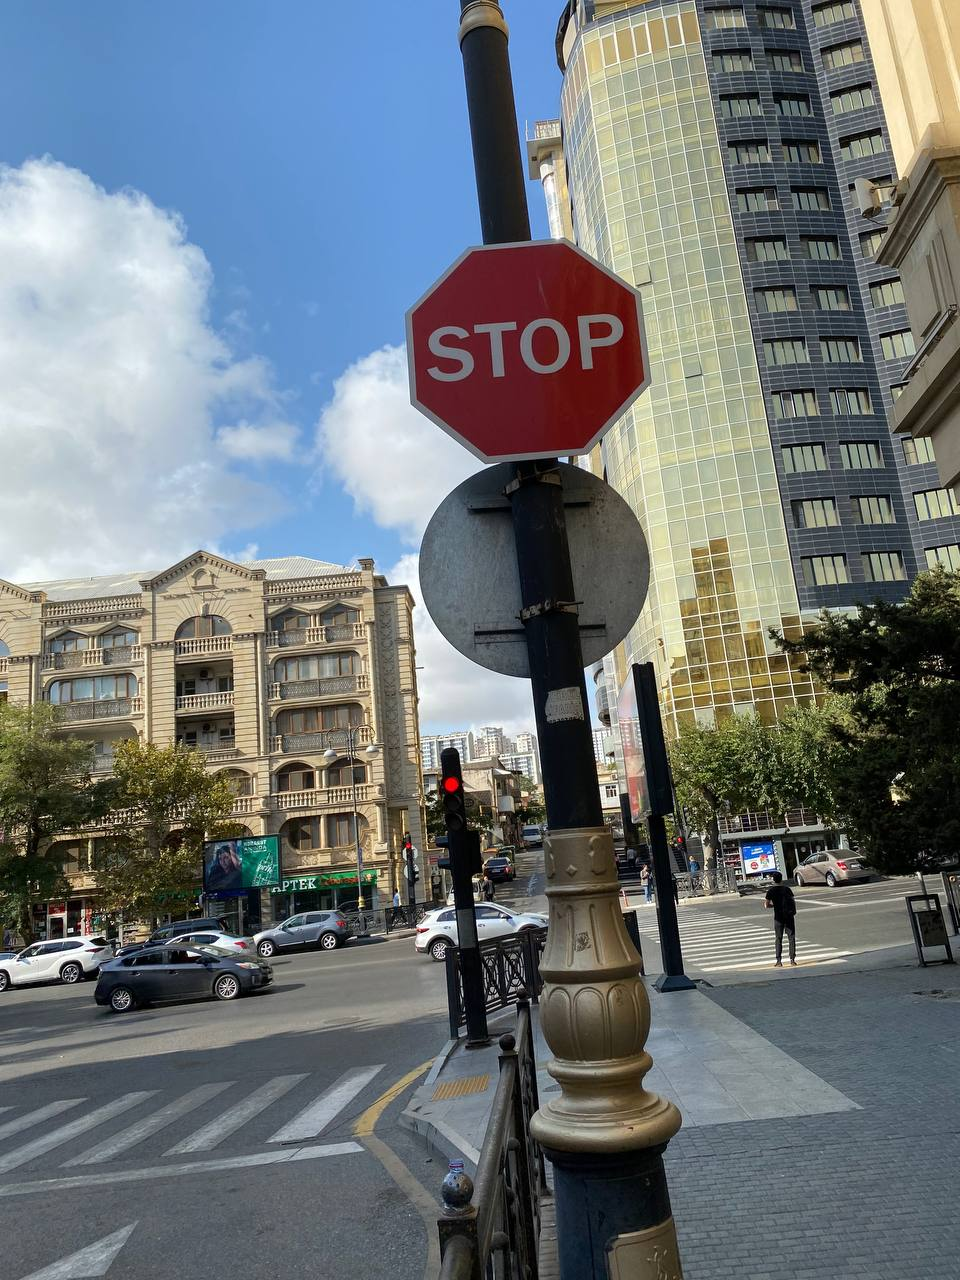STOP: (406, 238, 652, 464)
